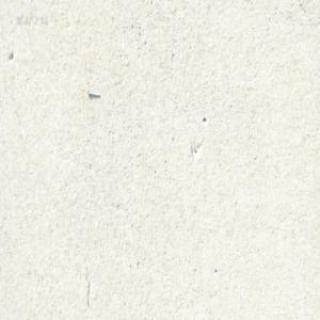Nailtrack_idkeyframe: (87, 89, 101, 98)
